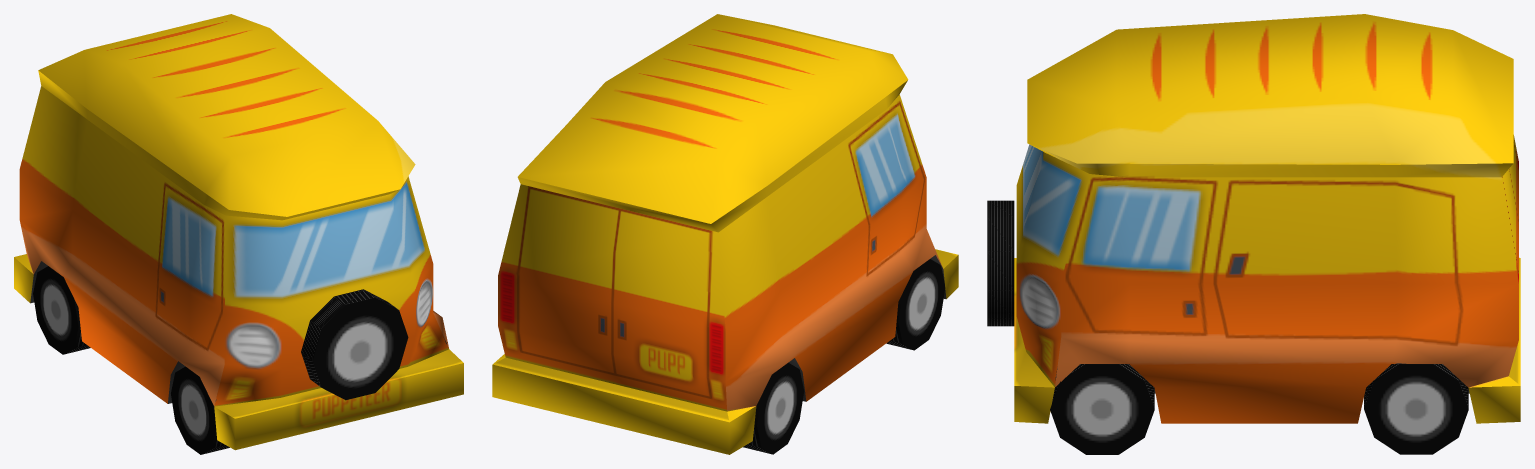
The model's file is VanOrange.FBX.
3 renders of one model, left to right at view 1: azimuth 30°, elevation 25°; view 2: azimuth 150°, elevation 25°; view 3: azimuth 270°, elevation 25°, orthographic. The views are drawn at different scales.
Parts seen in each view (by area): view 1: VanOrange, WheelBR007, WheelFR007; view 2: VanOrange, WheelBR007, WheelFR007; view 3: VanOrange, WheelBL007, WheelFL007.
Part boxes in pixels (bbox=[...]): VanOrange: bbox=[14, 14, 463, 450]; WheelBR007: bbox=[33, 266, 90, 354]; WheelFR007: bbox=[171, 366, 229, 454]; VanOrange: bbox=[492, 14, 958, 454]; WheelBR007: bbox=[743, 362, 804, 454]; WheelFR007: bbox=[886, 259, 945, 350]; VanOrange: bbox=[987, 14, 1520, 423]; WheelBL007: bbox=[1364, 364, 1468, 454]; WheelFL007: bbox=[1050, 364, 1154, 454].
Bounding box in the file's own units: 33.73 × 38.63 × 55.97.
